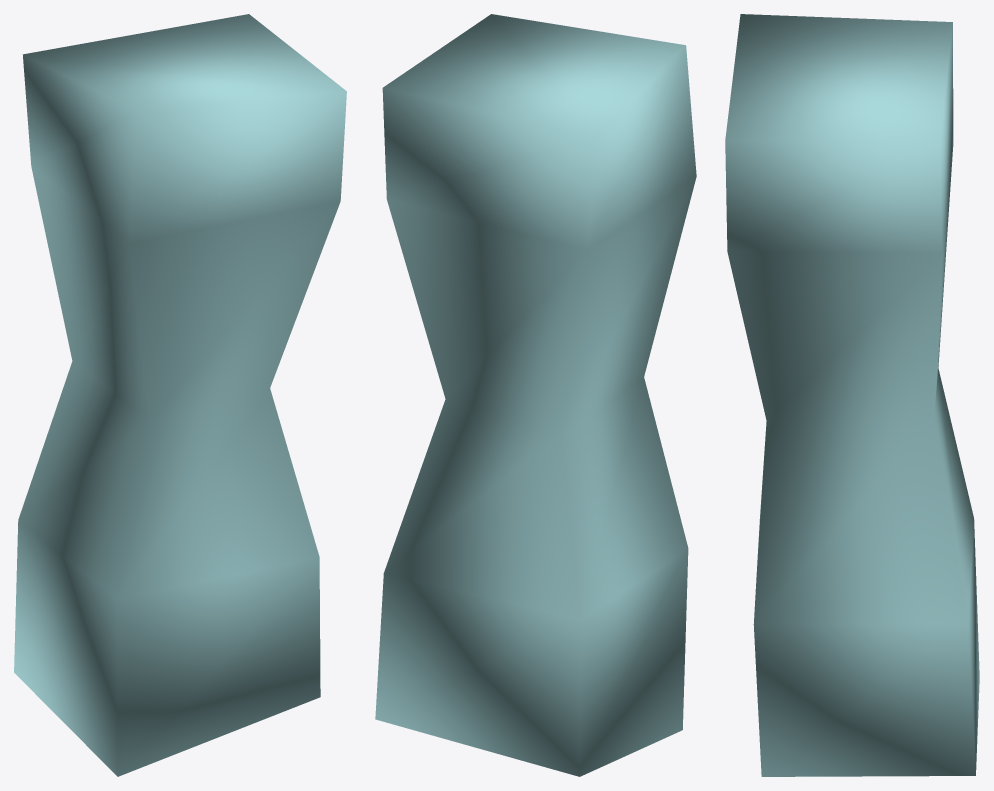
The model's file is Skelly_f_pinky.01.L.fbx.
3 views of the same model, side by side, from view 1: azimuth 30°, elevation 25°; view 2: azimuth 150°, elevation 25°; view 3: azimuth 270°, elevation 25° (orthographic). The views are drawn at different scales.
Visible parts, largest first — view 1: Skelly_f_pinky.01.L; view 2: Skelly_f_pinky.01.L; view 3: Skelly_f_pinky.01.L.
Part boxes in pixels (x1,y1,x2,y2): Skelly_f_pinky.01.L: (14, 14, 346, 776); Skelly_f_pinky.01.L: (375, 14, 696, 776); Skelly_f_pinky.01.L: (725, 14, 979, 776).
Size of the model in its own units: 1.43 by 4.19 by 1.38.
